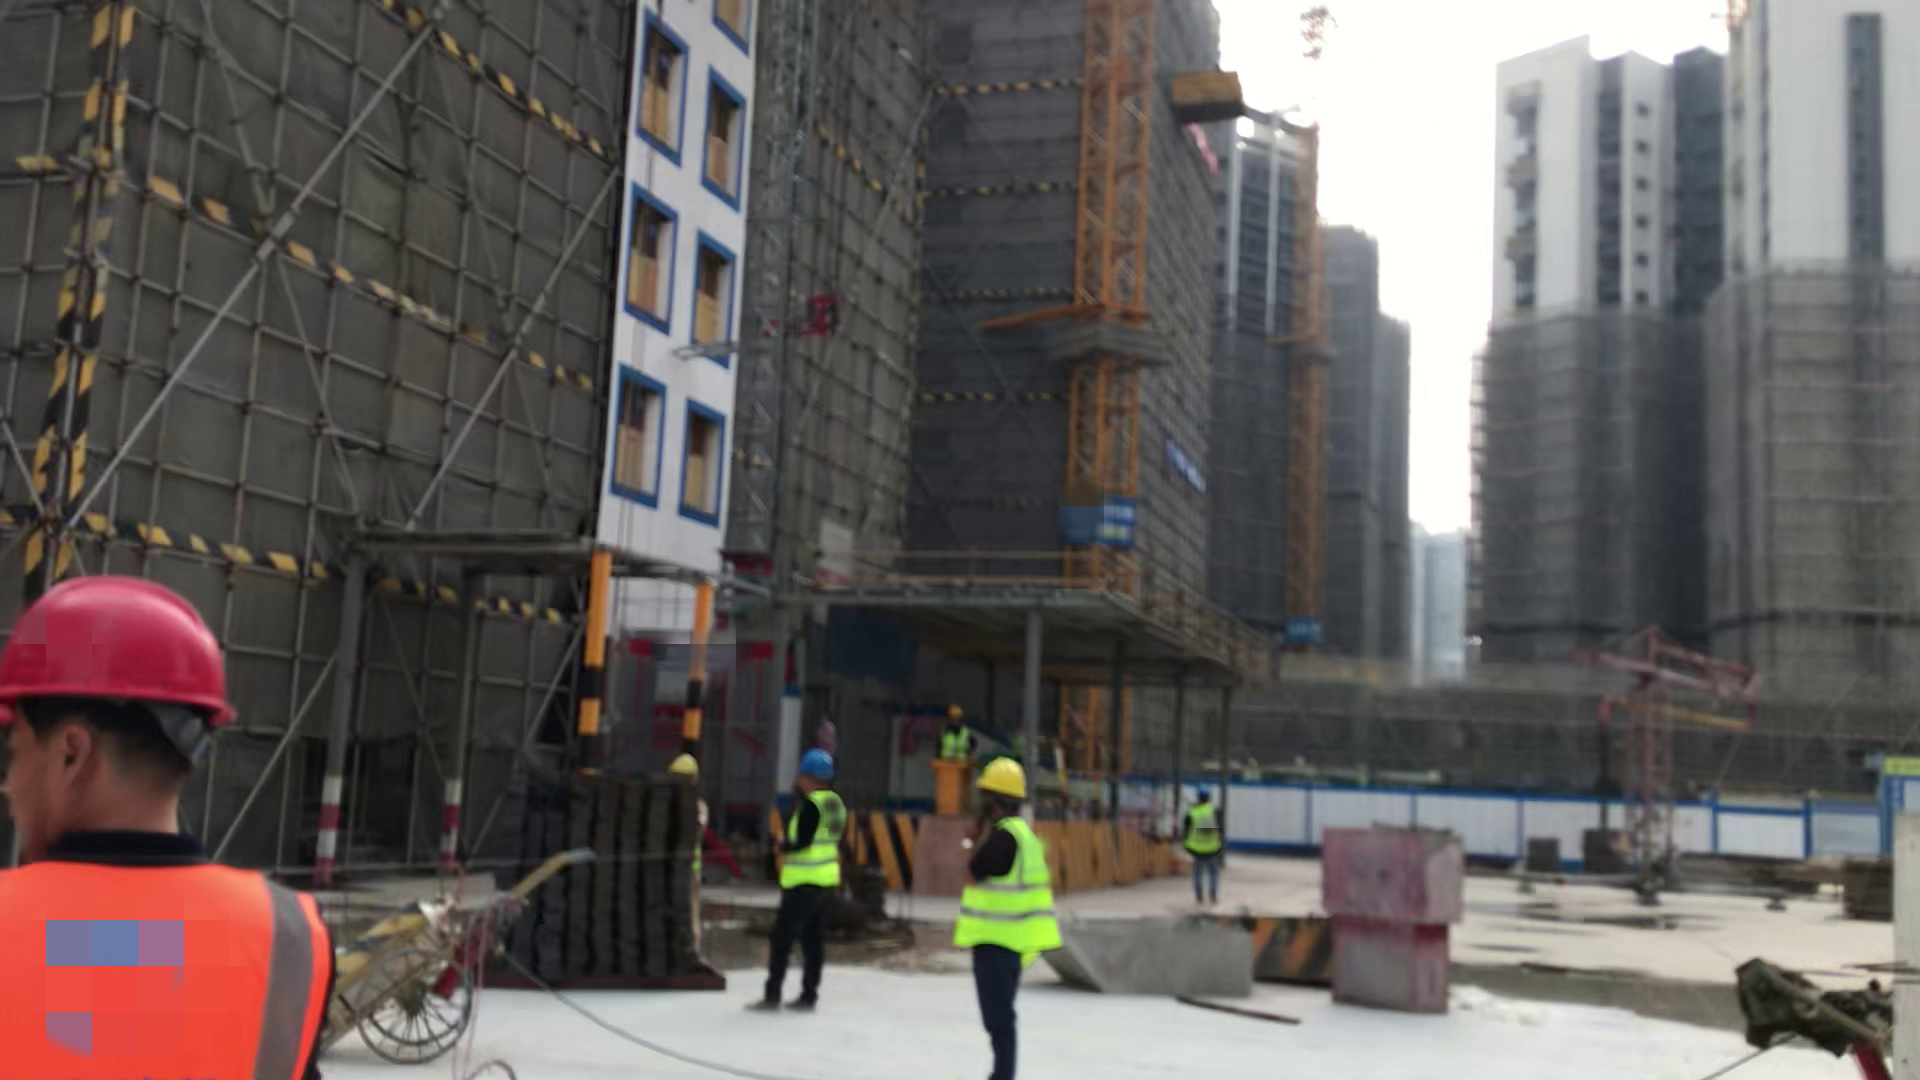helmet: (8, 572, 251, 731), (974, 752, 1036, 801), (799, 742, 839, 782), (665, 750, 703, 779), (1189, 774, 1223, 801), (936, 700, 972, 721)
person: (7, 565, 367, 1080), (945, 757, 1065, 1080), (768, 739, 849, 1014), (1185, 768, 1230, 902), (931, 692, 986, 770)
vest: (6, 844, 334, 1080), (951, 809, 1061, 963), (780, 785, 846, 891), (1187, 807, 1229, 863)
